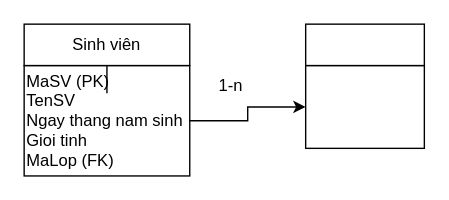
Some shapes in this 449 by 200 pixel diagram are drawn without their labels. Each missing label, with the centre of its shape:
"Lop" belongs at (364,44).
"MaLop (PK) TenLop Nienkhoa" belongs at (364,106).
